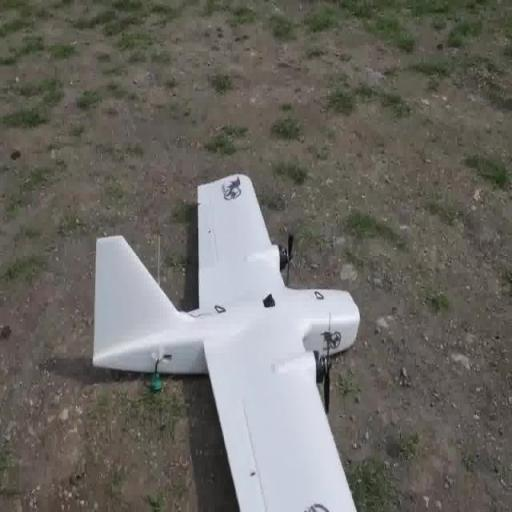uav: (91, 168, 363, 511)
